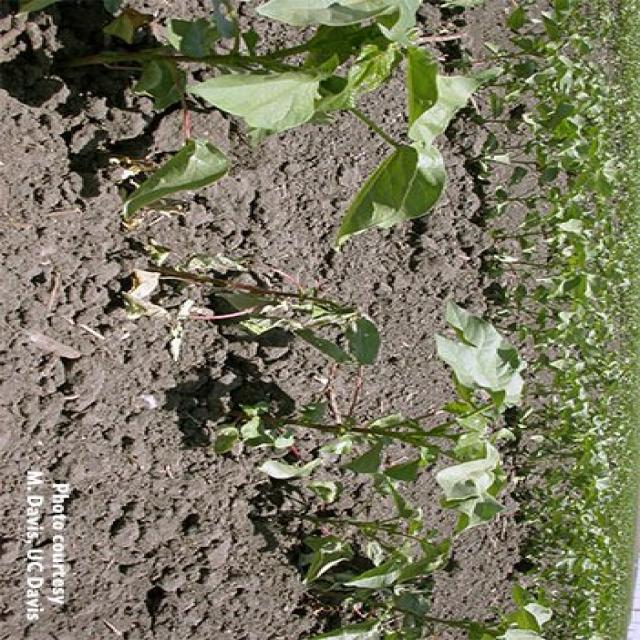Fusarium Wilt: (91, 35, 640, 640)
